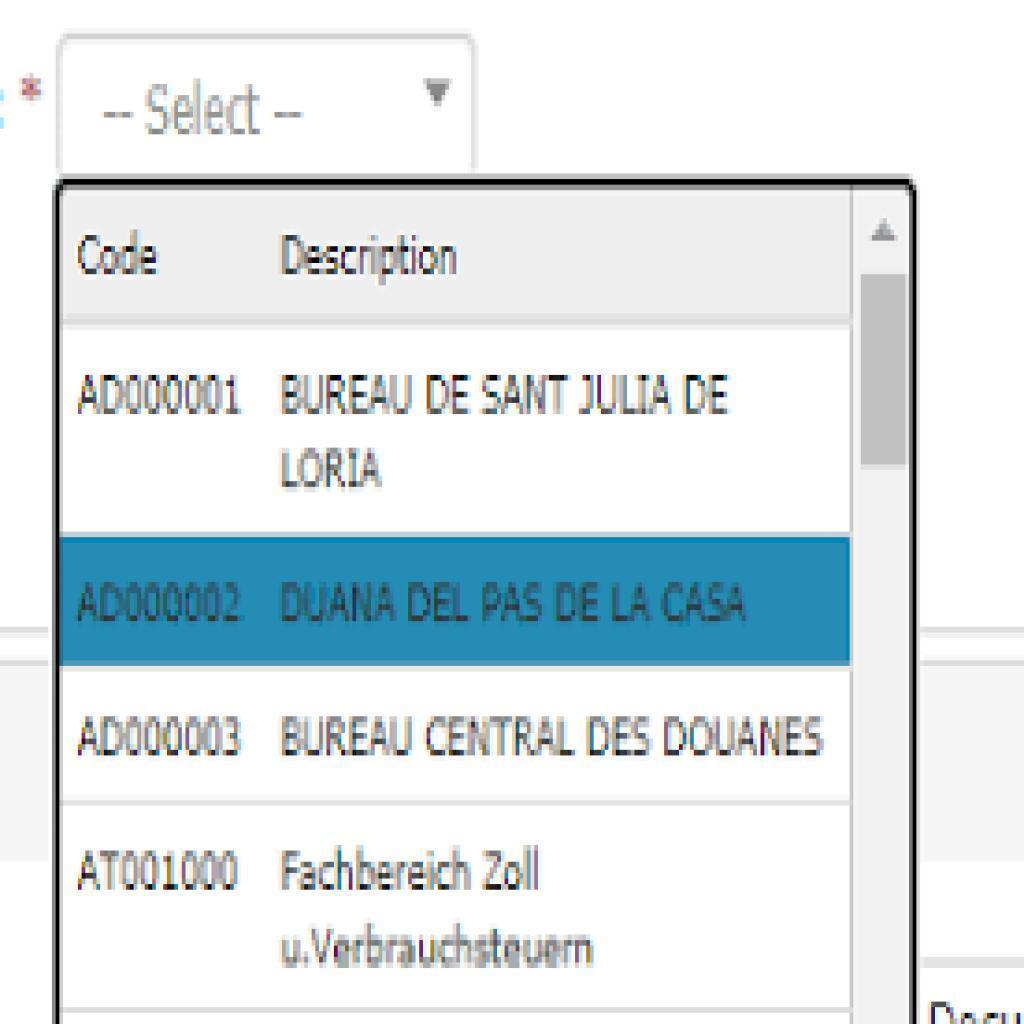dropdown: (60, 36, 475, 178)
